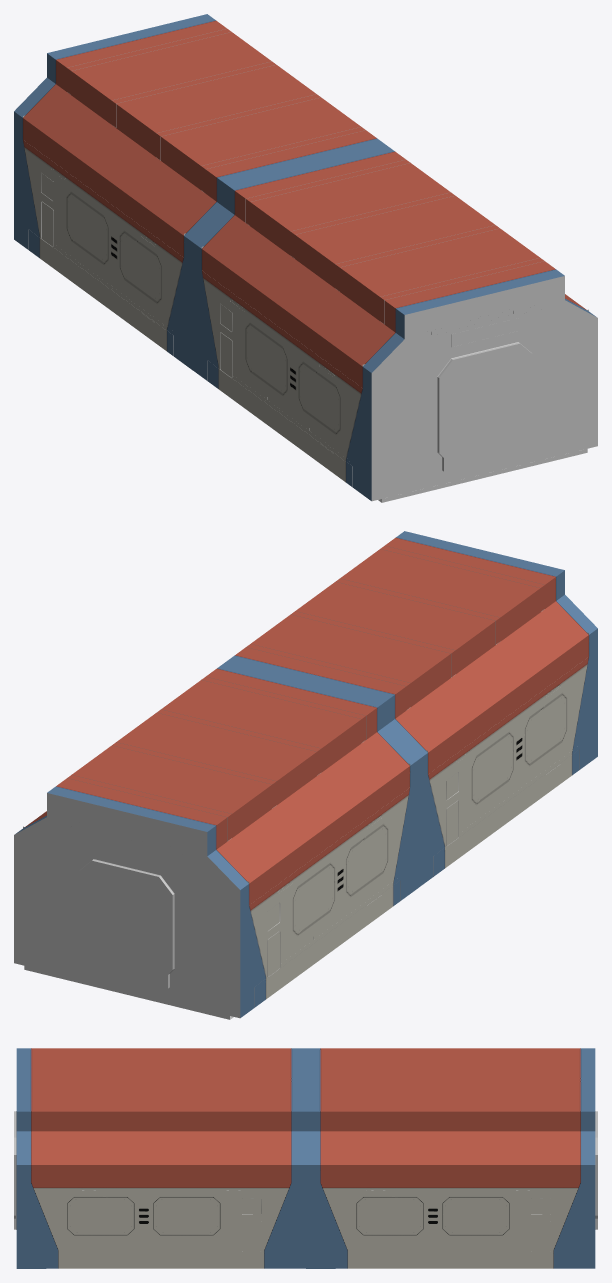
Rendered from SciFiBiolabCorridor.fbx.
3 views of the same model, one above another, from view 1: azimuth 30°, elevation 25°; view 2: azimuth 150°, elevation 25°; view 3: azimuth 270°, elevation 25° (orthographic). The views are drawn at different scales.
Visible parts, largest first — view 1: Wall, Door_AreaA3-TestAnimali, Roof_Support_Tube; view 2: Wall, Door_AreaA3-HubCentrale, Roof_Support_Tube; view 3: Wall, Door_AreaA3-HubCentrale, Door_AreaA3-TestAnimali.
Part boxes in pixels (left/top/right/bottom): Wall: left=14, top=14, right=595, bottom=500; Door_AreaA3-TestAnimali: left=371, top=276, right=597, bottom=502; Roof_Support_Tube: left=67, top=28, right=544, bottom=334; Wall: left=16, top=531, right=597, bottom=1017; Door_AreaA3-HubCentrale: left=14, top=793, right=240, bottom=1019; Roof_Support_Tube: left=67, top=546, right=544, bottom=841; Wall: left=16, top=1048, right=595, bottom=1268; Door_AreaA3-HubCentrale: left=595, top=1111, right=597, bottom=1229; Door_AreaA3-TestAnimali: left=14, top=1111, right=16, bottom=1229.
Size of the model in its own units: 586 by 450 by 1615.
